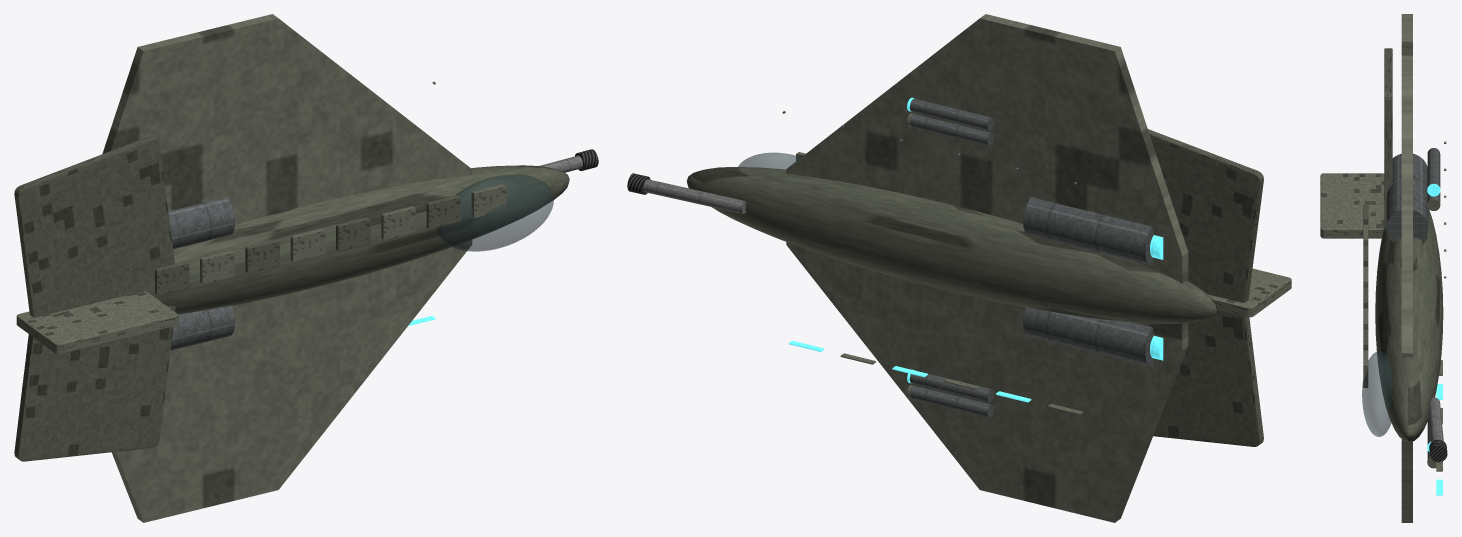
The model's file is v-u26-vanguard-bomber-lod0.glb.
3 views of the same model, side by side, from view 1: azimuth 30°, elevation 25°; view 2: azimuth 150°, elevation 25°; view 3: azimuth 270°, elevation 25° (orthographic). The views are drawn at different scales.
Parts seen in each view (by area): view 1: combat_main_wing, combat_fuselage, combat_tailplane_1, combat_tailplane_-1, combat_fin_0, combat_canopy, combat_engine_1, combat_engine_0, airframe_panel_3, airframe_panel_1, airframe_panel_2, airframe_panel_0 (+4 smaller); view 2: combat_main_wing, combat_fuselage, combat_tailplane_1, combat_tailplane_-1, combat_engine_1, combat_engine_0, combat_fin_0, combat_gun_barrel_0, combat_1_tube_2, combat_-1_tube_1, combat_1_tube_1, combat_-1_tube_2 (+1 smaller); view 3: combat_fuselage, combat_main_wing, combat_fin_0, combat_engine_1, combat_canopy, combat_tailplane_1, combat_gun_barrel_0, combat_1_tube_2, combat_gun_muzzle_0, airframe_panel_7.
Boxes of the visible parts, <box> form: combat_main_wing: <box>102,14,472,522</box>; combat_fuselage: <box>142,165,569,314</box>; combat_tailplane_1: <box>14,136,174,317</box>; combat_tailplane_-1: <box>14,306,175,461</box>; combat_fin_0: <box>16,291,178,353</box>; combat_canopy: <box>437,174,553,251</box>; combat_engine_1: <box>168,197,235,249</box>; combat_engine_0: <box>170,305,235,350</box>; airframe_panel_3: <box>290,228,325,262</box>; airframe_panel_1: <box>200,250,234,284</box>; airframe_panel_2: <box>245,239,279,273</box>; airframe_panel_0: <box>155,261,189,295</box>; combat_main_wing: <box>786,14,1188,522</box>; combat_fuselage: <box>687,167,1216,323</box>; combat_tailplane_1: <box>1148,129,1263,302</box>; combat_tailplane_-1: <box>1153,299,1263,446</box>; combat_engine_1: <box>1023,197,1153,265</box>; combat_engine_0: <box>1023,307,1153,366</box>; combat_fin_0: <box>1208,268,1291,317</box>; combat_gun_barrel_0: <box>643,179,745,213</box>; combat_1_tube_2: <box>909,98,993,130</box>; combat_-1_tube_1: <box>909,385,993,417</box>; combat_1_tube_1: <box>909,114,993,145</box>; combat_-1_tube_2: <box>909,371,993,402</box>; combat_fuselage: <box>1375,209,1443,442</box>; combat_main_wing: <box>1401,14,1412,522</box>; combat_fin_0: <box>1320,173,1384,238</box>; combat_engine_1: <box>1386,153,1428,241</box>; combat_canopy: <box>1362,351,1391,436</box>; combat_tailplane_1: <box>1384,48,1392,230</box>; combat_gun_barrel_0: <box>1428,397,1443,441</box>; combat_1_tube_2: <box>1427,148,1440,187</box>; combat_gun_muzzle_0: <box>1429,439,1447,462</box>; airframe_panel_7: <box>1363,350,1368,387</box>.
Size of what is drawn, in the model's own units: 16.25 by 12.12 by 3.13.
7 materials, 7 textured.
